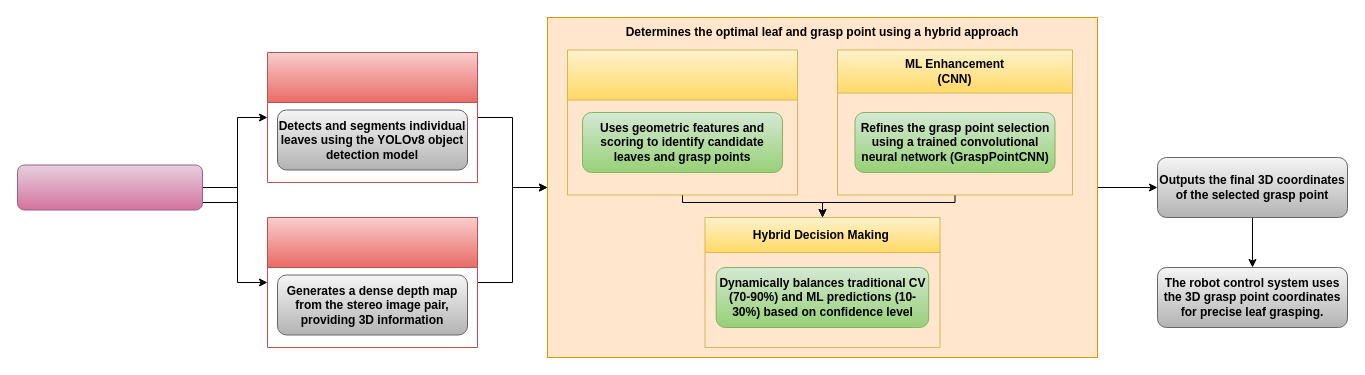
Image size: 1365x375. Some labels were removed from this diagram. The box of each missing label's shape, as (x1, y1, x2, y2) in pixels:
Captures stereo image pairs: (16, 164, 202, 210)
Depth estimation using RAFT-Stereo: (266, 216, 478, 348)
Leaf mask generation using YOLOv8: (266, 52, 478, 182)
Traditional CV (Geometric): (566, 49, 798, 195)
